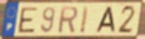2: (117, 5, 137, 34)
9: (40, 6, 57, 34)
A: (95, 6, 117, 34)
E: (18, 7, 39, 35)
I: (79, 5, 91, 35)
R: (57, 5, 79, 34)
